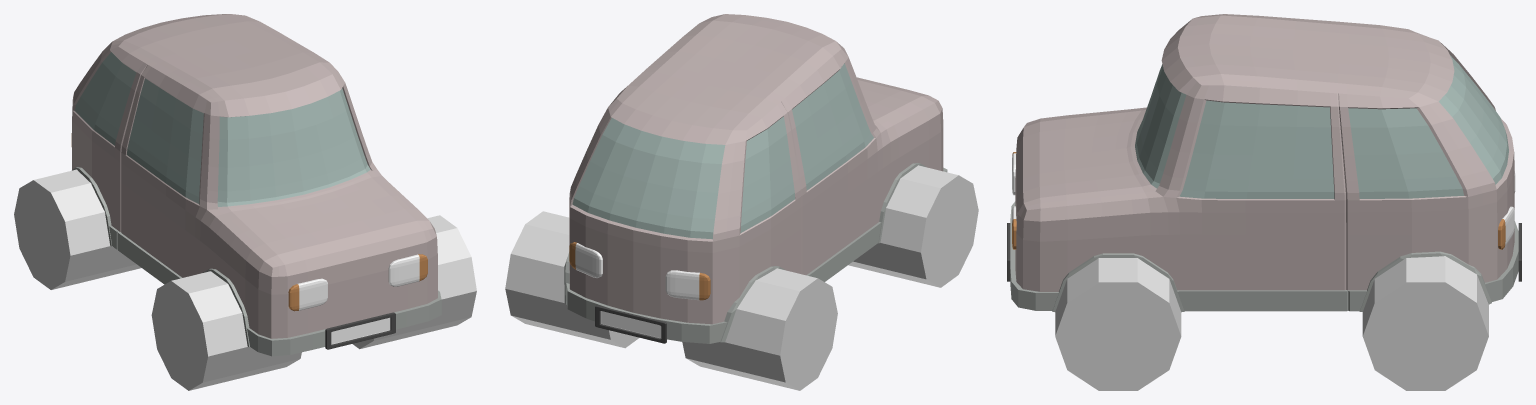
File: car.fbx
3 renders of one model, left to right at view 1: azimuth 30°, elevation 25°; view 2: azimuth 150°, elevation 25°; view 3: azimuth 270°, elevation 25°, orthographic. The views are drawn at different scales.
Parts seen in each view (by area): view 1: Cube, Cylinder.006, Cylinder.007, Cylinder.004, Cube.003, Cube.001, Cube.002, Cylinder.002, Cylinder.003; view 2: Cube, Cylinder.007, Cylinder.006, Cylinder.005, Cube.004, Cube.005, Cube.006, Cylinder.003, Cylinder.002; view 3: Cube, Cylinder.005, Cylinder.004, Cylinder.001, Cylinder, Cube.006.
Boxes of the visible parts, left/top/right/bottom form: Cube: left=72, top=14, right=441, bottom=356; Cylinder.006: left=151, top=271, right=301, bottom=390; Cylinder.007: left=14, top=169, right=141, bottom=289; Cylinder.004: left=352, top=215, right=476, bottom=349; Cube.003: left=325, top=312, right=395, bottom=349; Cube.001: left=288, top=278, right=327, bottom=311; Cube.002: left=388, top=254, right=427, bottom=286; Cylinder.002: left=202, top=268, right=249, bottom=347; Cylinder.003: left=72, top=167, right=112, bottom=246; Cube: left=566, top=14, right=947, bottom=343; Cylinder.007: left=682, top=268, right=837, bottom=390; Cylinder.006: left=848, top=165, right=978, bottom=287; Cylinder.005: left=505, top=211, right=639, bottom=348; Cube.004: left=595, top=305, right=666, bottom=343; Cube.005: left=665, top=270, right=710, bottom=300; Cube.006: left=569, top=242, right=602, bottom=278; Cylinder.003: left=720, top=266, right=785, bottom=342; Cylinder.002: left=878, top=163, right=926, bottom=243; Cube: left=1010, top=14, right=1518, bottom=311; Cylinder.005: left=1362, top=256, right=1488, bottom=390; Cylinder.004: left=1055, top=258, right=1181, bottom=390; Cylinder.001: left=1359, top=251, right=1491, bottom=311; Cylinder: left=1052, top=253, right=1184, bottom=312; Cube.006: left=1498, top=206, right=1514, bottom=249.
Bounding box in the file's own units: 549 × 476 × 816.
